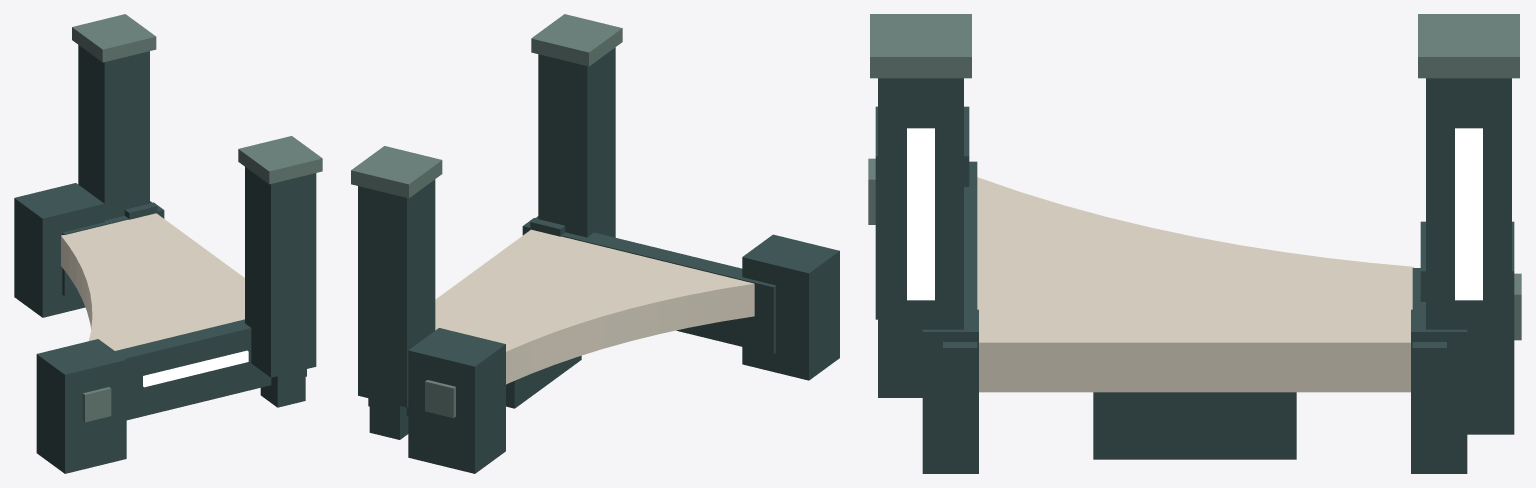
The model's file is Pier_Angled_25_Switch_lab.glb.
The picture shows the model from 3 angles, left to right: view 1: azimuth 30°, elevation 25°; view 2: azimuth 150°, elevation 25°; view 3: azimuth 270°, elevation 25°; orthographic projection. The views are drawn at different scales.
Parts seen in each view (by area): view 1: Pier_Angled_25_Switch; view 2: Pier_Angled_25_Switch; view 3: Pier_Angled_25_Switch.
Boxes of the visible parts, box(x1,y1,x2,y2) form: Pier_Angled_25_Switch: box(14, 14, 322, 473); Pier_Angled_25_Switch: box(351, 14, 839, 473); Pier_Angled_25_Switch: box(868, 14, 1521, 473).
Size of the model in its own units: 3.18 by 2.95 by 4.17.
